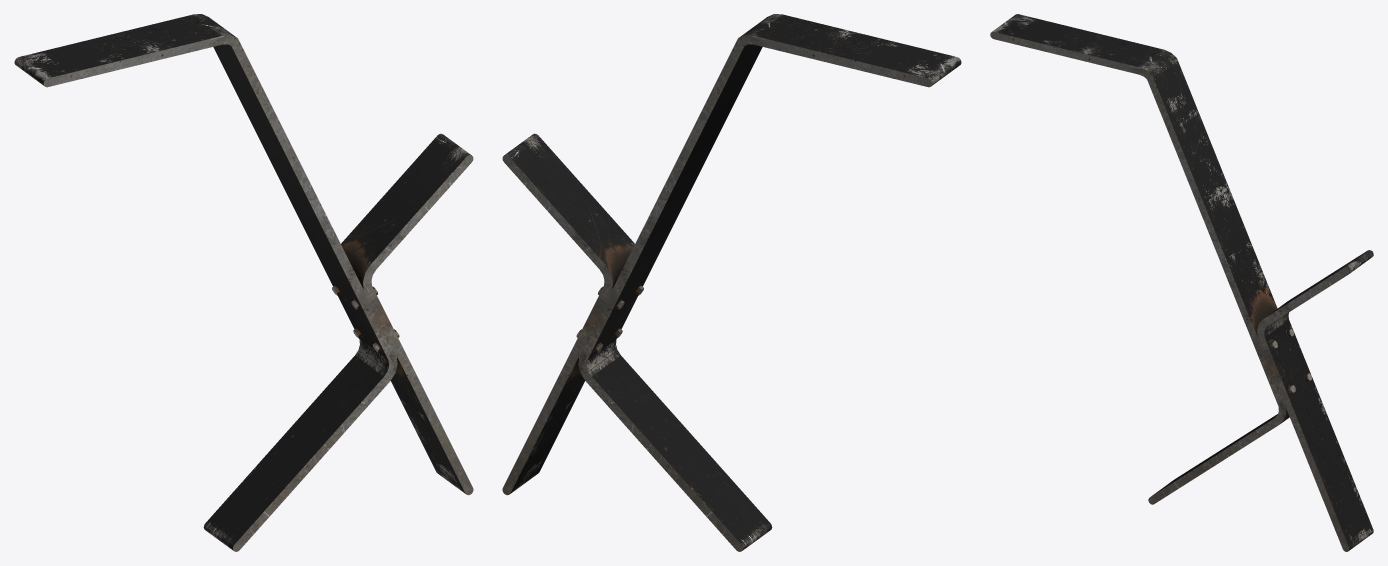
3 renders of one model, left to right at view 1: azimuth 30°, elevation 25°; view 2: azimuth 150°, elevation 25°; view 3: azimuth 330°, elevation 25°, orthographic. The views are drawn at different scales.
Parts seen in each view (by area): view 1: Giraffe; view 2: Giraffe; view 3: Giraffe.
Part boxes in pixels (bbox=[...]): Giraffe: bbox=[14, 14, 473, 551]; Giraffe: bbox=[502, 14, 961, 551]; Giraffe: bbox=[990, 14, 1373, 551].
Size of the model in its own units: 5.11 by 5.9 by 0.6.
Materials: 6 (6 with a texture image).
